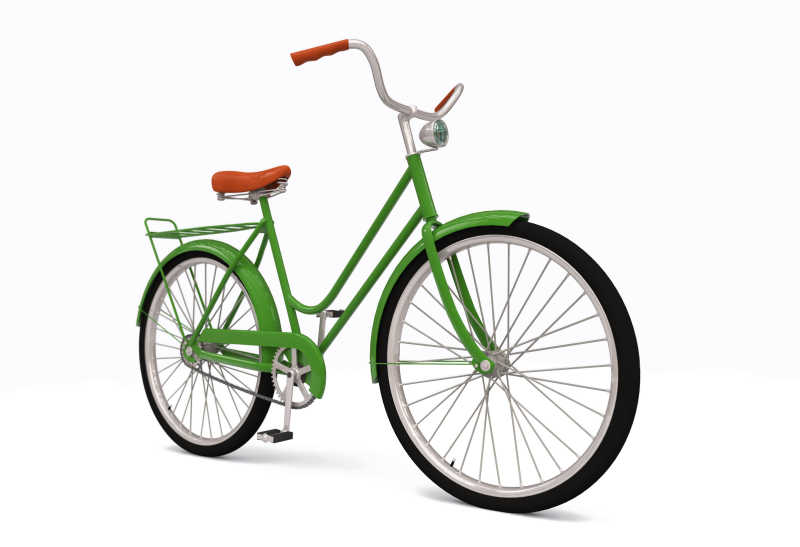MNV: (142, 40, 639, 514)
